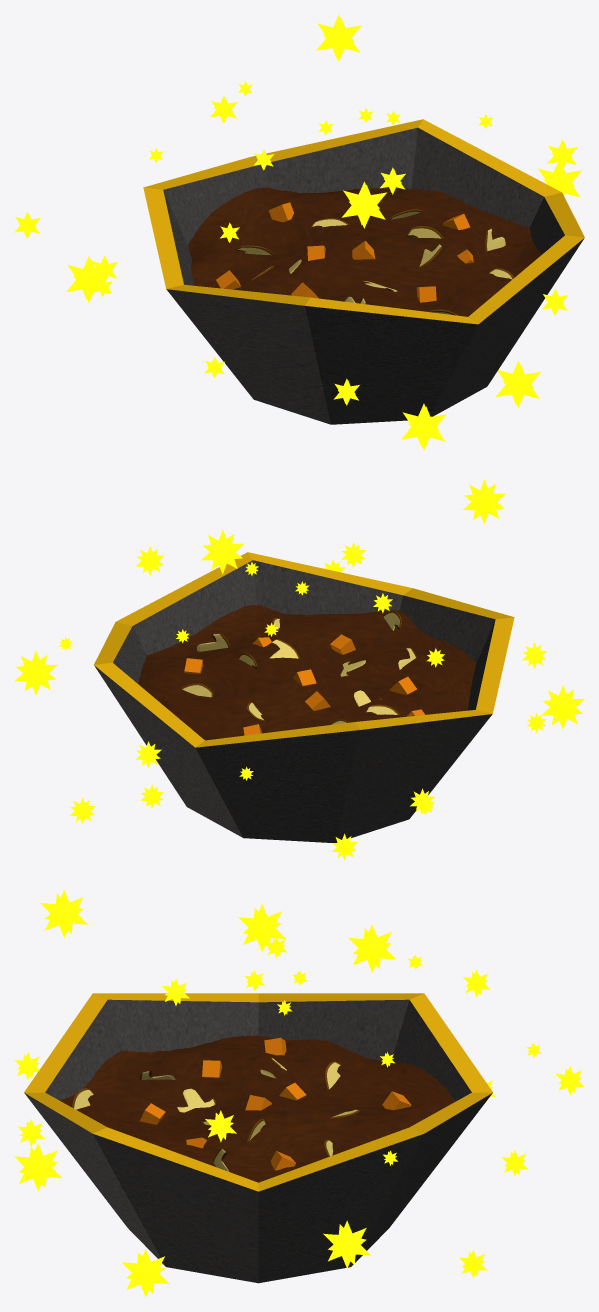
File: grand mushroom soup.fbx
3 views of the same model, one above another, from view 1: azimuth 30°, elevation 25°; view 2: azimuth 150°, elevation 25°; view 3: azimuth 270°, elevation 25° (orthographic). The views are drawn at different scales.
Parts seen in each view (by area): view 1: Cone, Icosphere; view 2: Cone, Icosphere; view 3: Cone, Icosphere.
Part boxes in pixels (x1,y1,x2,y2): Cone: (143, 119, 584, 424); Icosphere: (14, 14, 581, 450); Cone: (94, 552, 514, 842); Icosphere: (14, 479, 584, 860); Cone: (24, 993, 492, 1283); Icosphere: (14, 889, 584, 1297).
Bounding box in the file's own units: 82.68 × 47.39 × 72.34.
